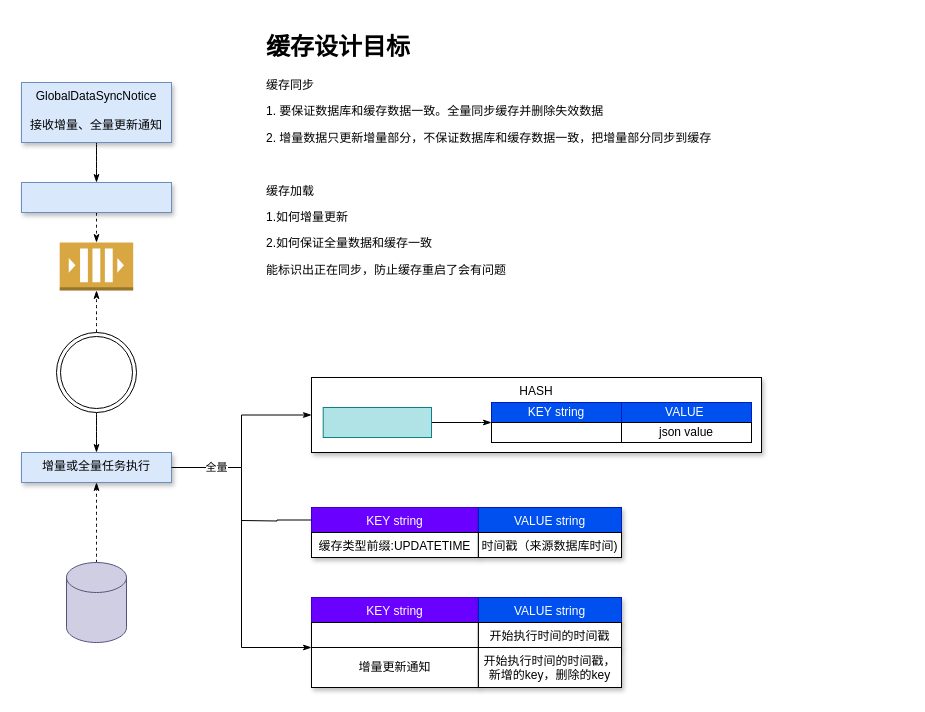
Image size: 925x712. Some labels were removed from this diagram. Each missing label, with the centre of its shape:
全量更新通知: the point at 395,636
放入任务队列: the point at 97,199
线程池: the point at 96,372
缓存类型前缀: the point at 377,422
缓存类型前缀+业务key: the point at 556,432
